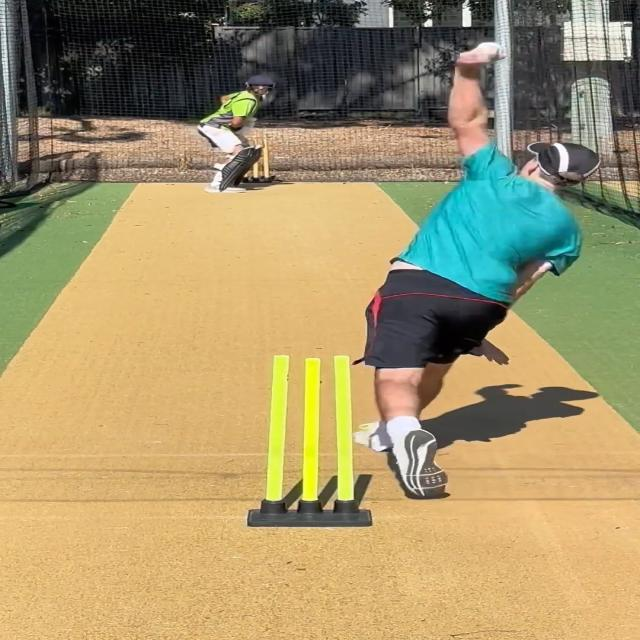stump: (246, 351, 370, 528)
